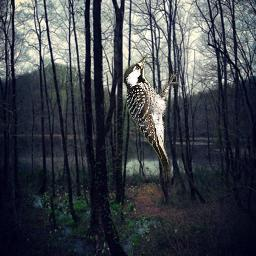Woodpecker: (123, 54, 181, 181)
